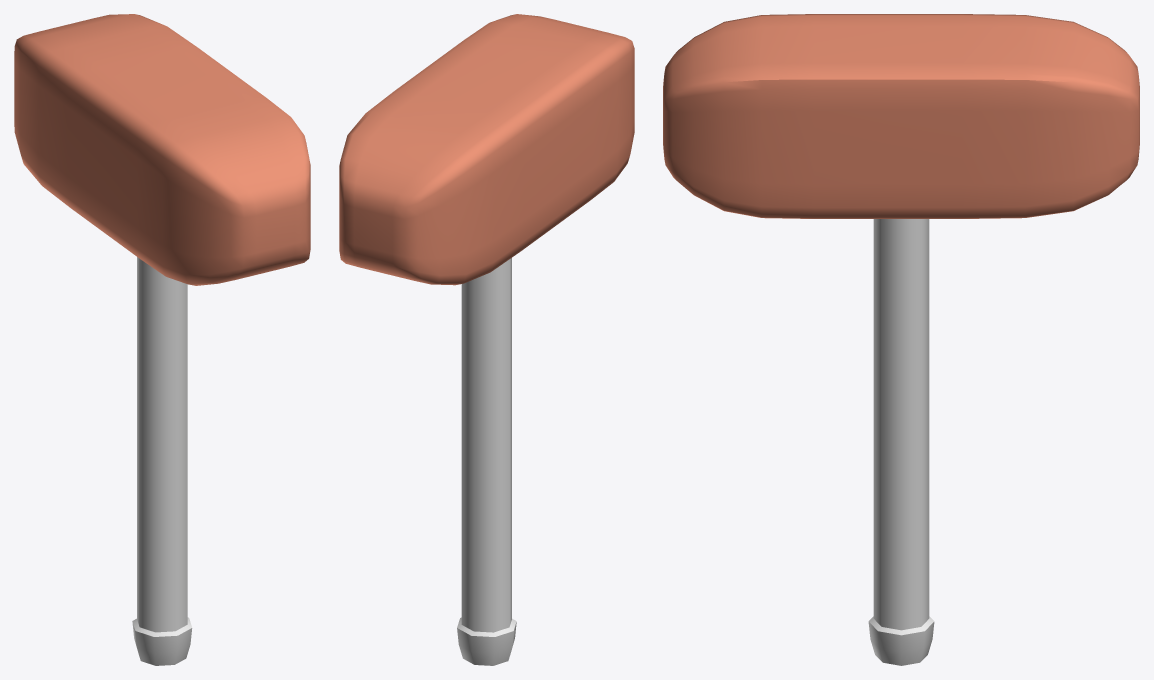
File: hammer.fbx
The picture shows the model from 3 angles, left to right: view 1: azimuth 30°, elevation 25°; view 2: azimuth 150°, elevation 25°; view 3: azimuth 270°, elevation 25°; orthographic projection. The views are drawn at different scales.
Parts seen in each view (by area): view 1: Cube.001; view 2: Cube.001; view 3: Cube.001.
Part boxes in pixels (<box>): Cube.001: <box>14,14,310,665</box>; Cube.001: <box>339,14,634,665</box>; Cube.001: <box>663,14,1139,665</box>.
Bounding box in the file's own units: 200 × 833 × 588.
